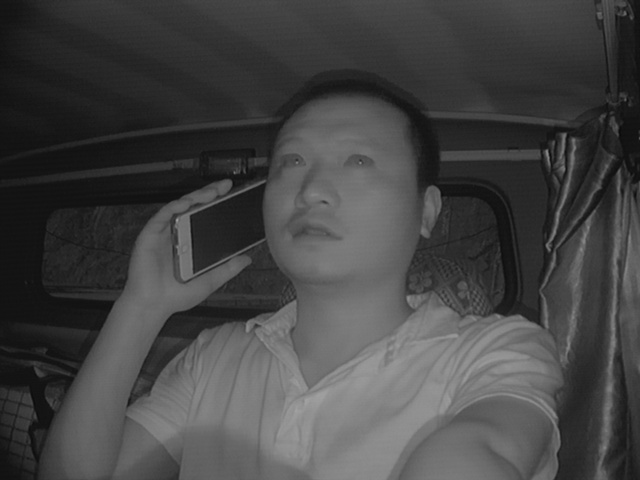hand: (137, 183, 242, 304)
